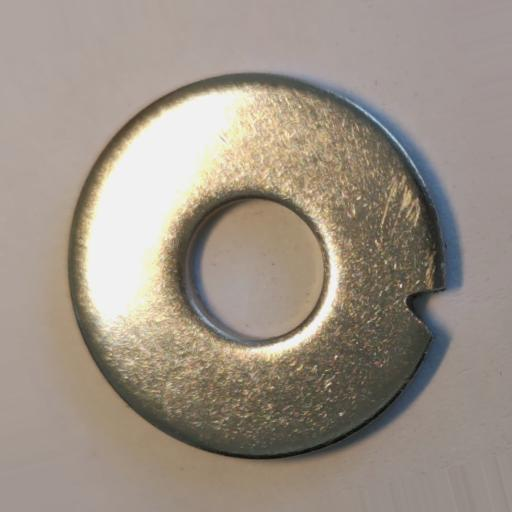burr: (404, 289, 443, 339)
